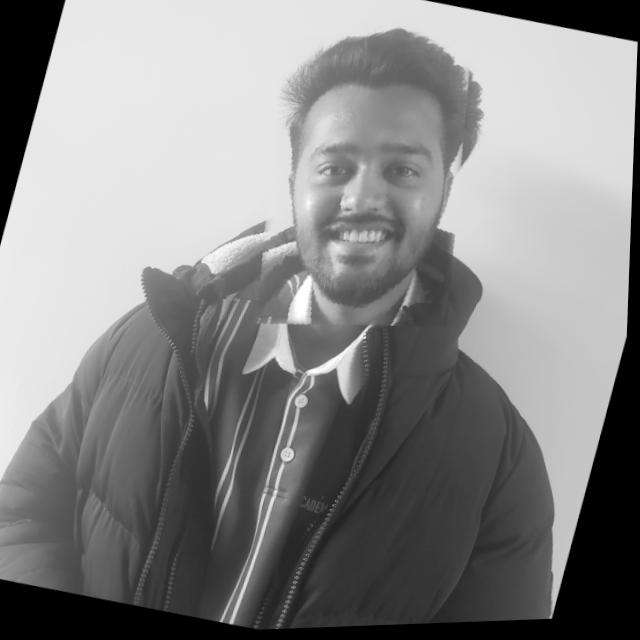happy: (222, 8, 509, 359)
